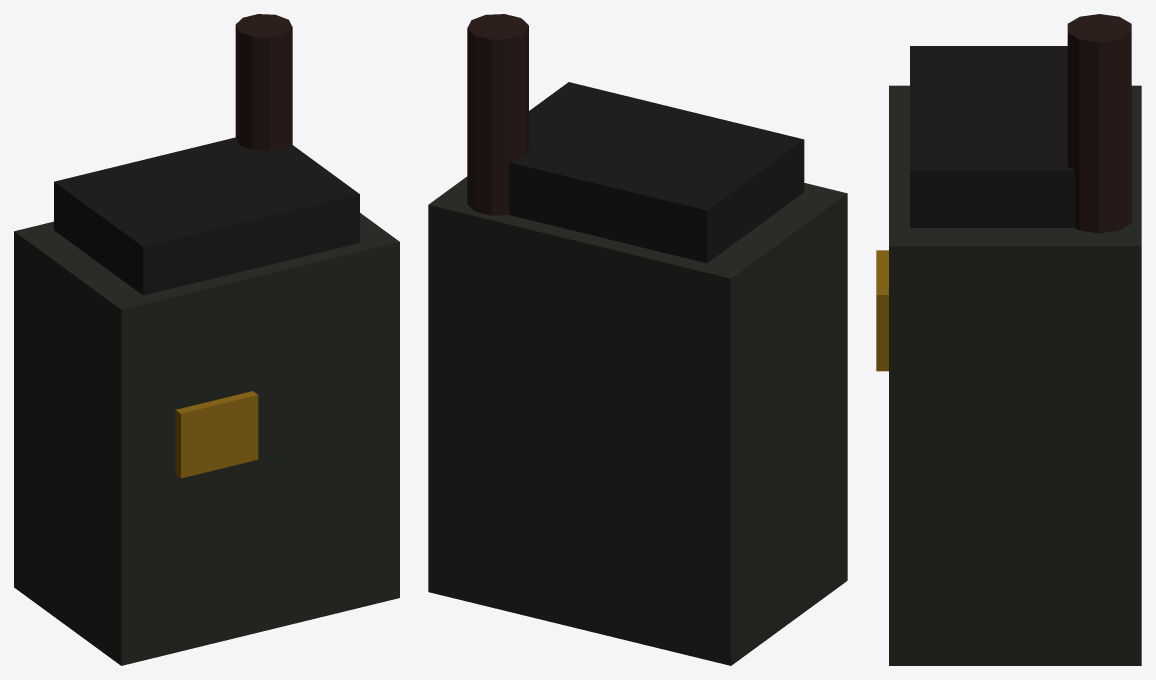
Rendered from generator.obj.
3 views of the same model, side by side, from view 1: azimuth 30°, elevation 25°; view 2: azimuth 150°, elevation 25°; view 3: azimuth 270°, elevation 25° (orthographic). The views are drawn at different scales.
Size of the model in its own units: 0.9 by 1.6 by 0.63.
